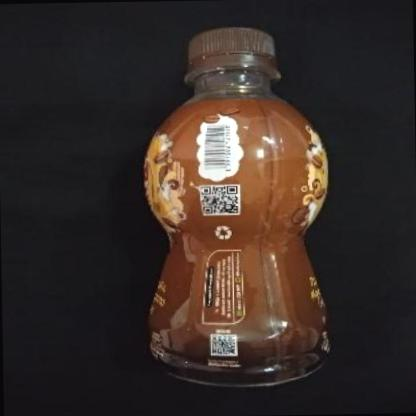plastic_bottles: (137, 23, 337, 392)
